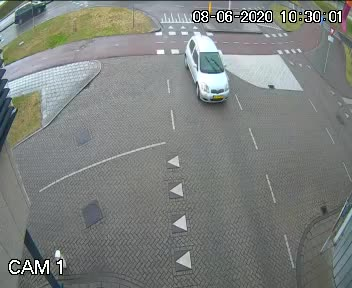car: (170, 29, 247, 119)
